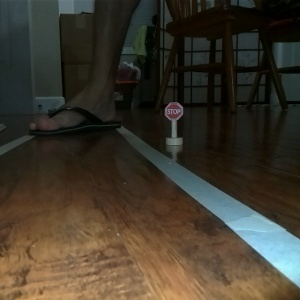stop sign: (162, 99, 186, 149)
